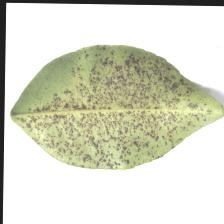canker: (50, 66, 184, 148)
